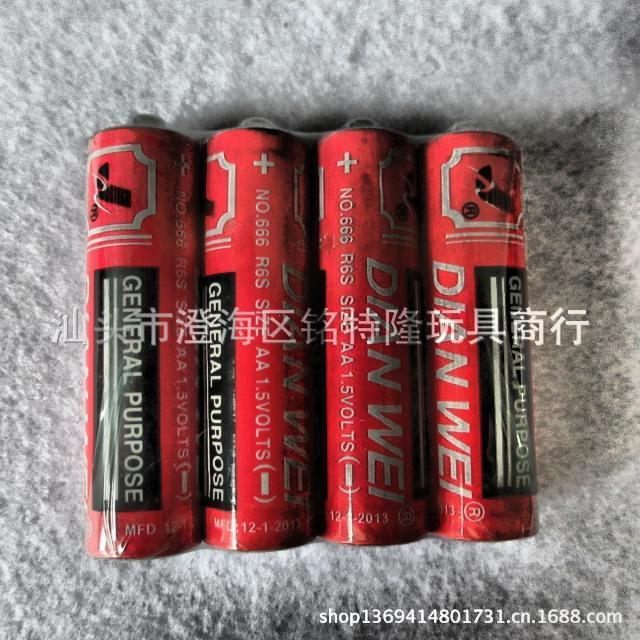battery: (190, 128, 315, 549), (86, 128, 201, 558), (419, 131, 540, 539), (311, 129, 428, 544)
